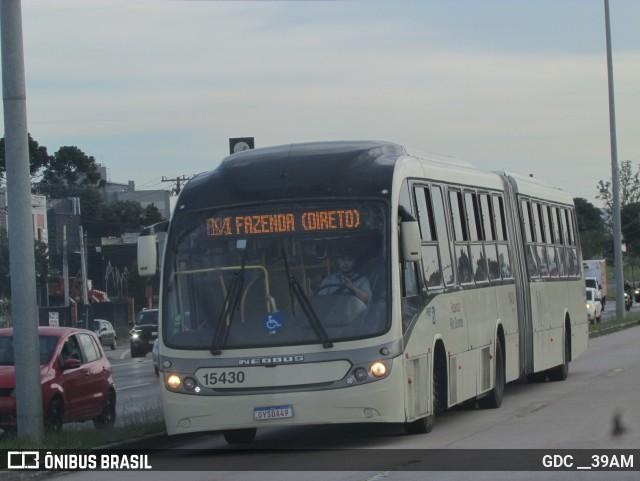FAZENDA: (231, 211, 300, 239)
